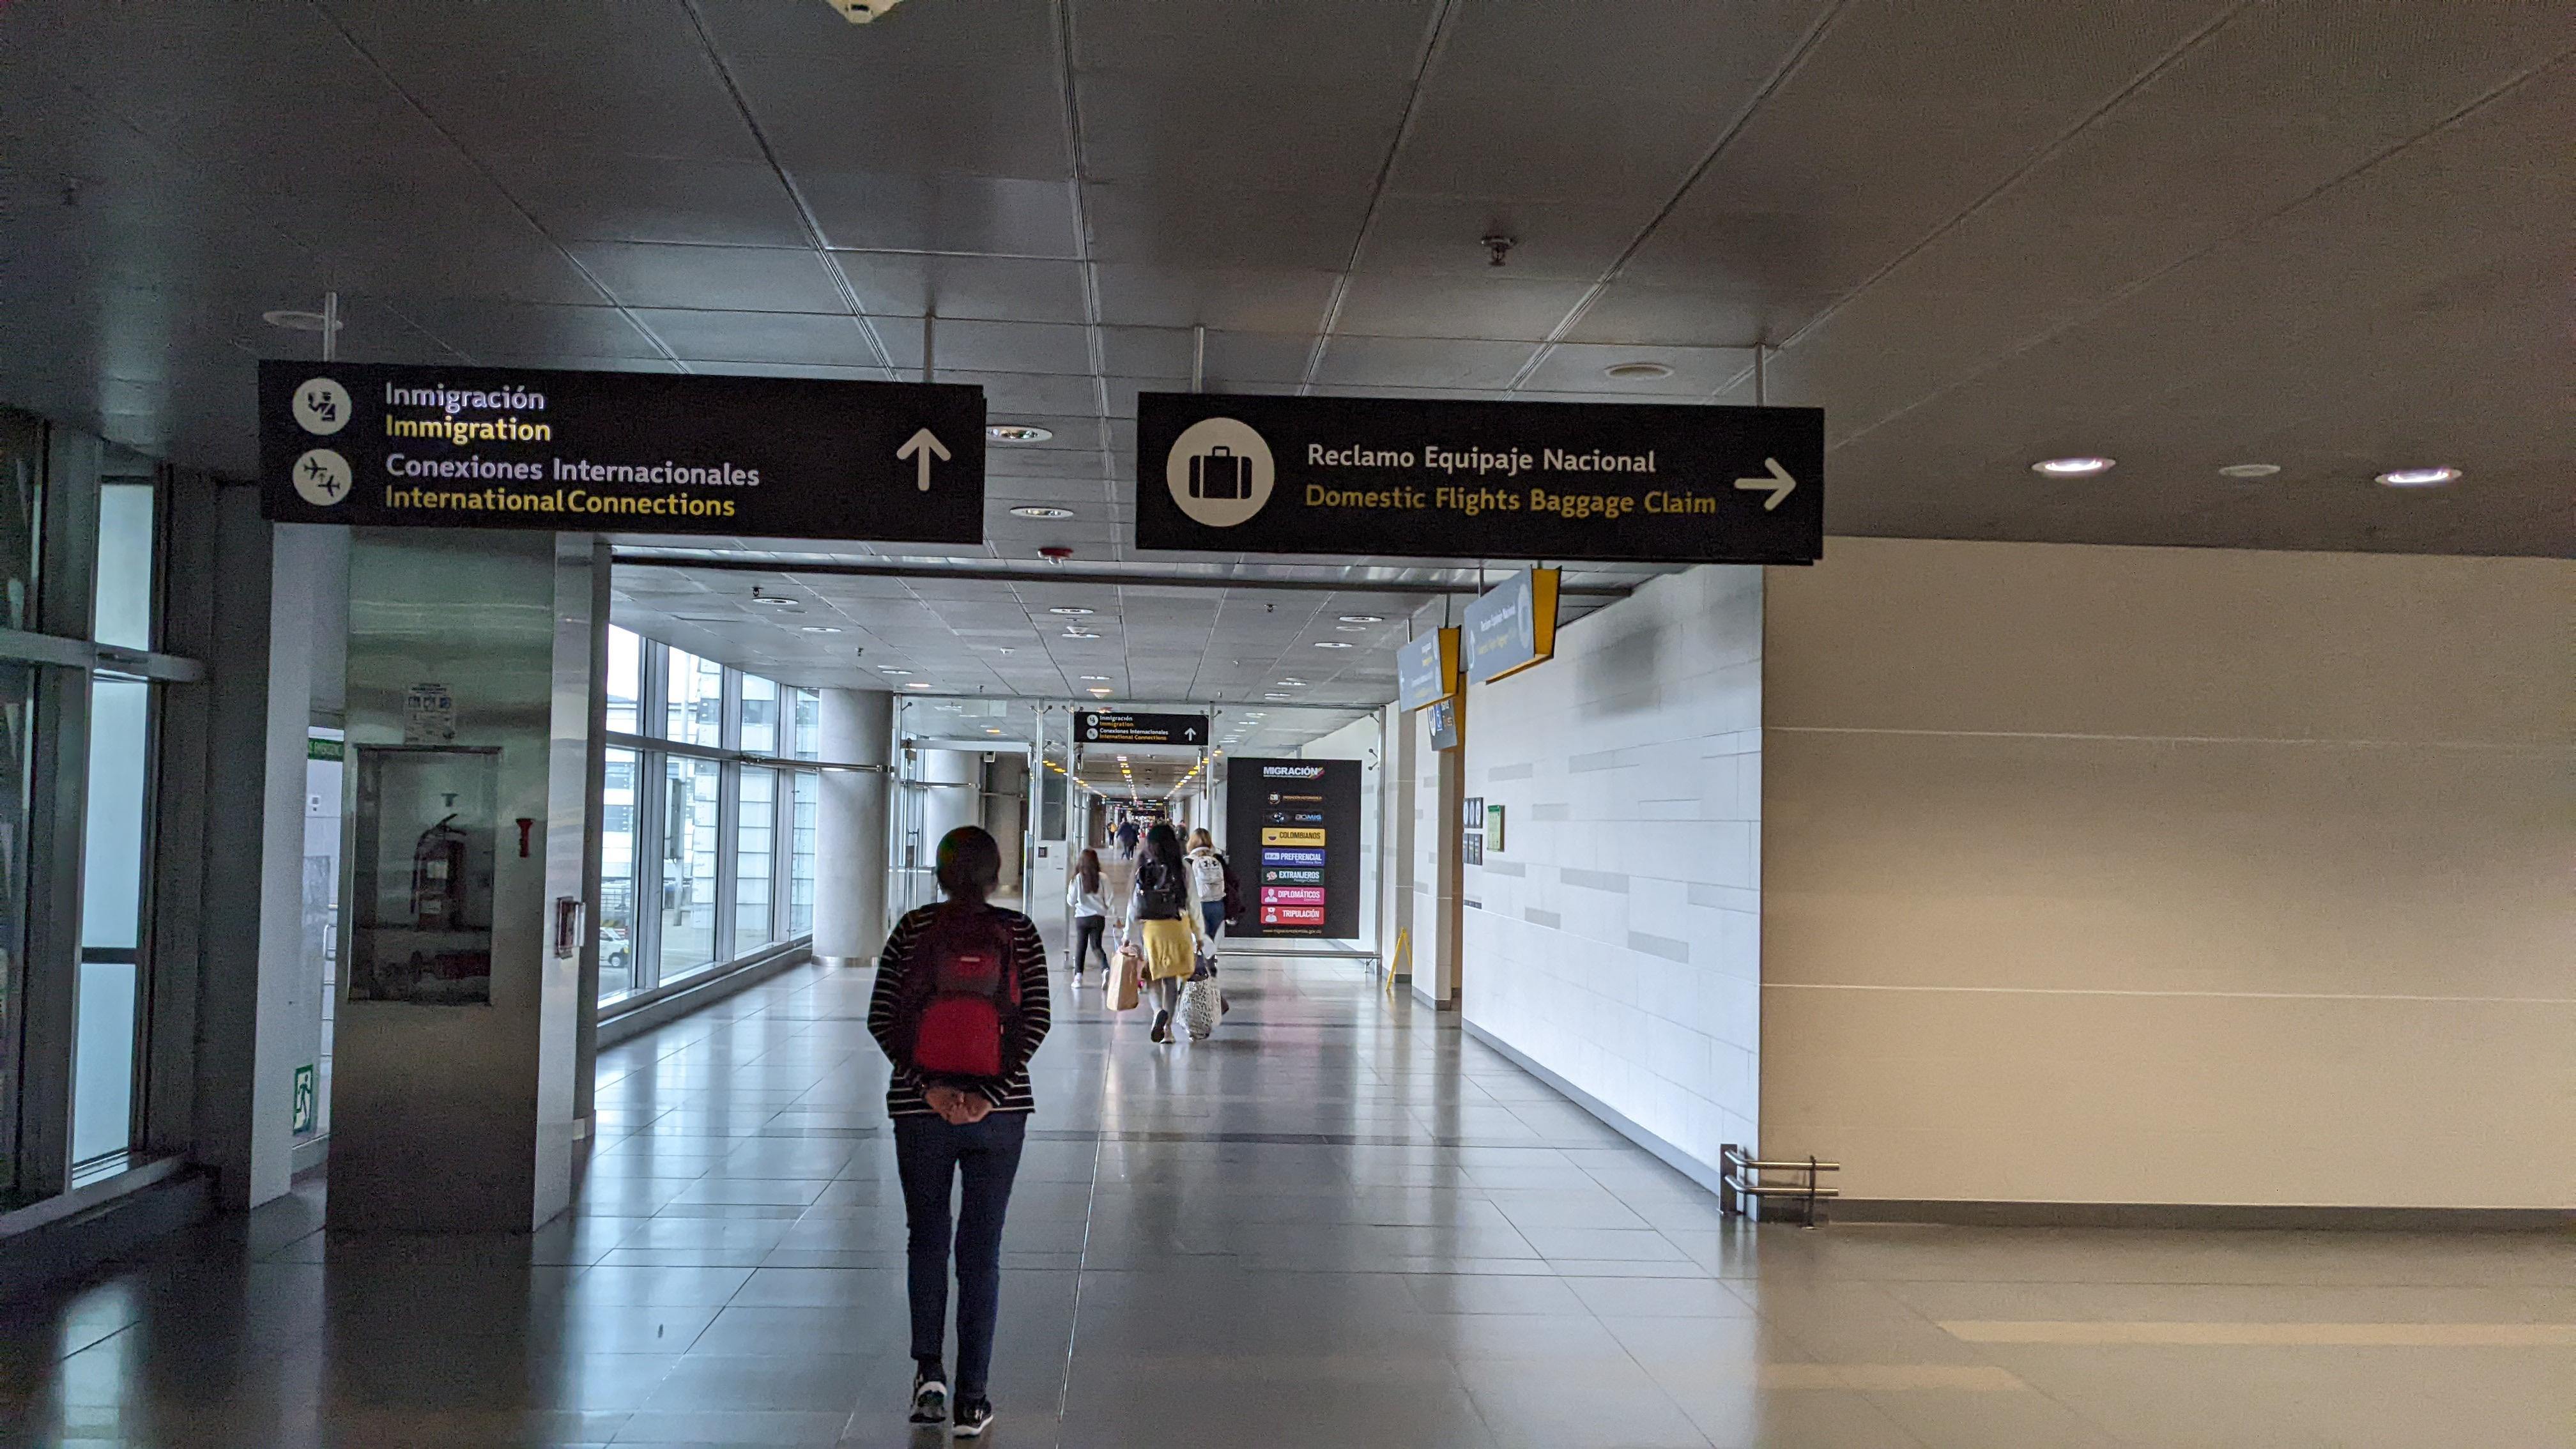baggage claim: (1185, 444, 1256, 502)
extinguisher symbol: (294, 1063, 315, 1132)
fire-extinguisher: (410, 810, 467, 939)
right arrow: (1734, 455, 1799, 515)
up arrow: (893, 425, 955, 494), (1184, 727, 1196, 741)
